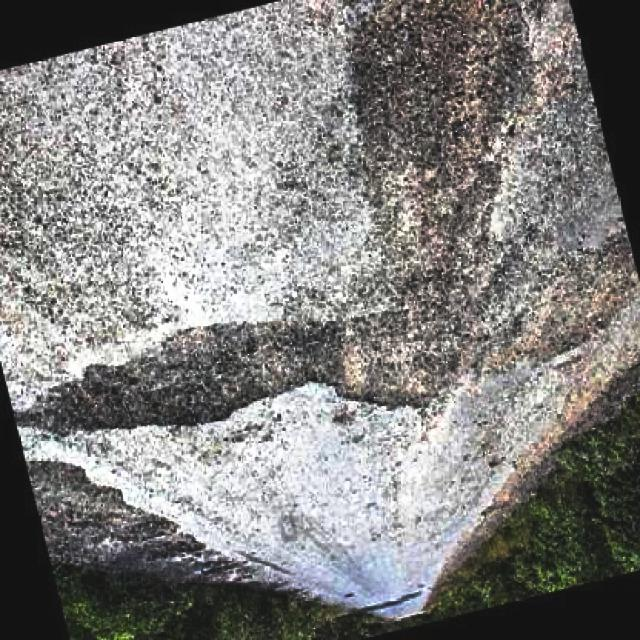pothole: (297, 234, 638, 412), (348, 5, 538, 246), (40, 306, 326, 443), (30, 450, 176, 568)
